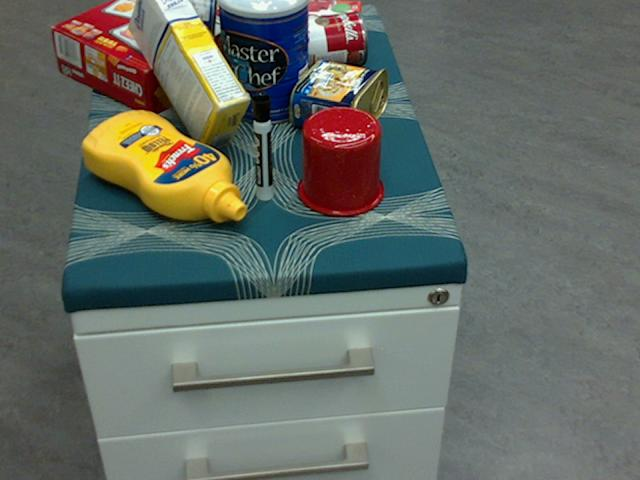cracker_box: (52, 0, 268, 117)
gelatin_box: (292, 0, 360, 41)
large_marker: (251, 91, 272, 199)
master_chef_can: (217, 0, 308, 124)
mug: (295, 105, 383, 215)
mustard_bottle: (81, 111, 246, 221)
potted_meat_can: (289, 57, 388, 143)
sugar_box: (128, 0, 252, 151)
tomato_soup_can: (276, 10, 367, 73)
tuna_fish_can: (182, 0, 215, 48)
